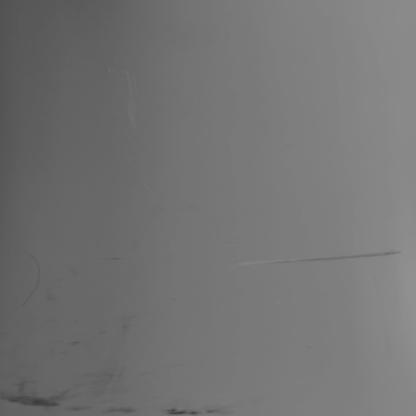sunshang: (239, 249, 400, 267), (13, 253, 44, 303)
